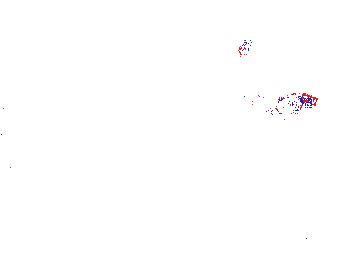X-ray fish: (259, 92, 318, 122)
red belly glassfish: (241, 87, 262, 107), (237, 34, 254, 57)
redtail glassfish: (53, 9, 119, 40)
